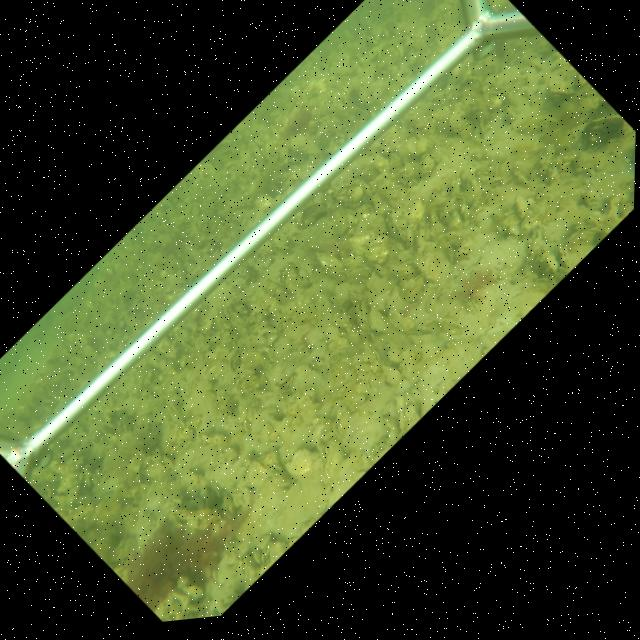Oyster-Closed: (414, 241, 451, 283), (318, 436, 344, 488), (291, 361, 324, 393), (242, 458, 272, 491), (382, 207, 408, 244), (306, 417, 332, 448), (367, 307, 393, 334), (234, 367, 260, 393), (526, 227, 545, 262), (317, 251, 343, 275), (385, 285, 408, 312), (434, 316, 465, 335), (363, 339, 382, 369), (381, 414, 397, 444), (323, 338, 339, 368), (400, 350, 416, 379), (362, 370, 379, 397), (346, 264, 371, 282), (237, 553, 253, 581), (352, 203, 371, 219), (542, 254, 557, 273), (475, 170, 495, 182), (351, 361, 371, 372), (415, 227, 427, 245)
Oyster-Open: (355, 297, 367, 322)
